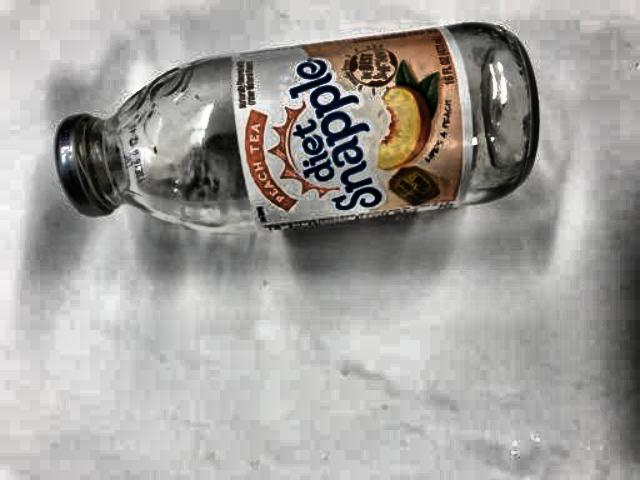Bottles: (51, 25, 556, 262)
